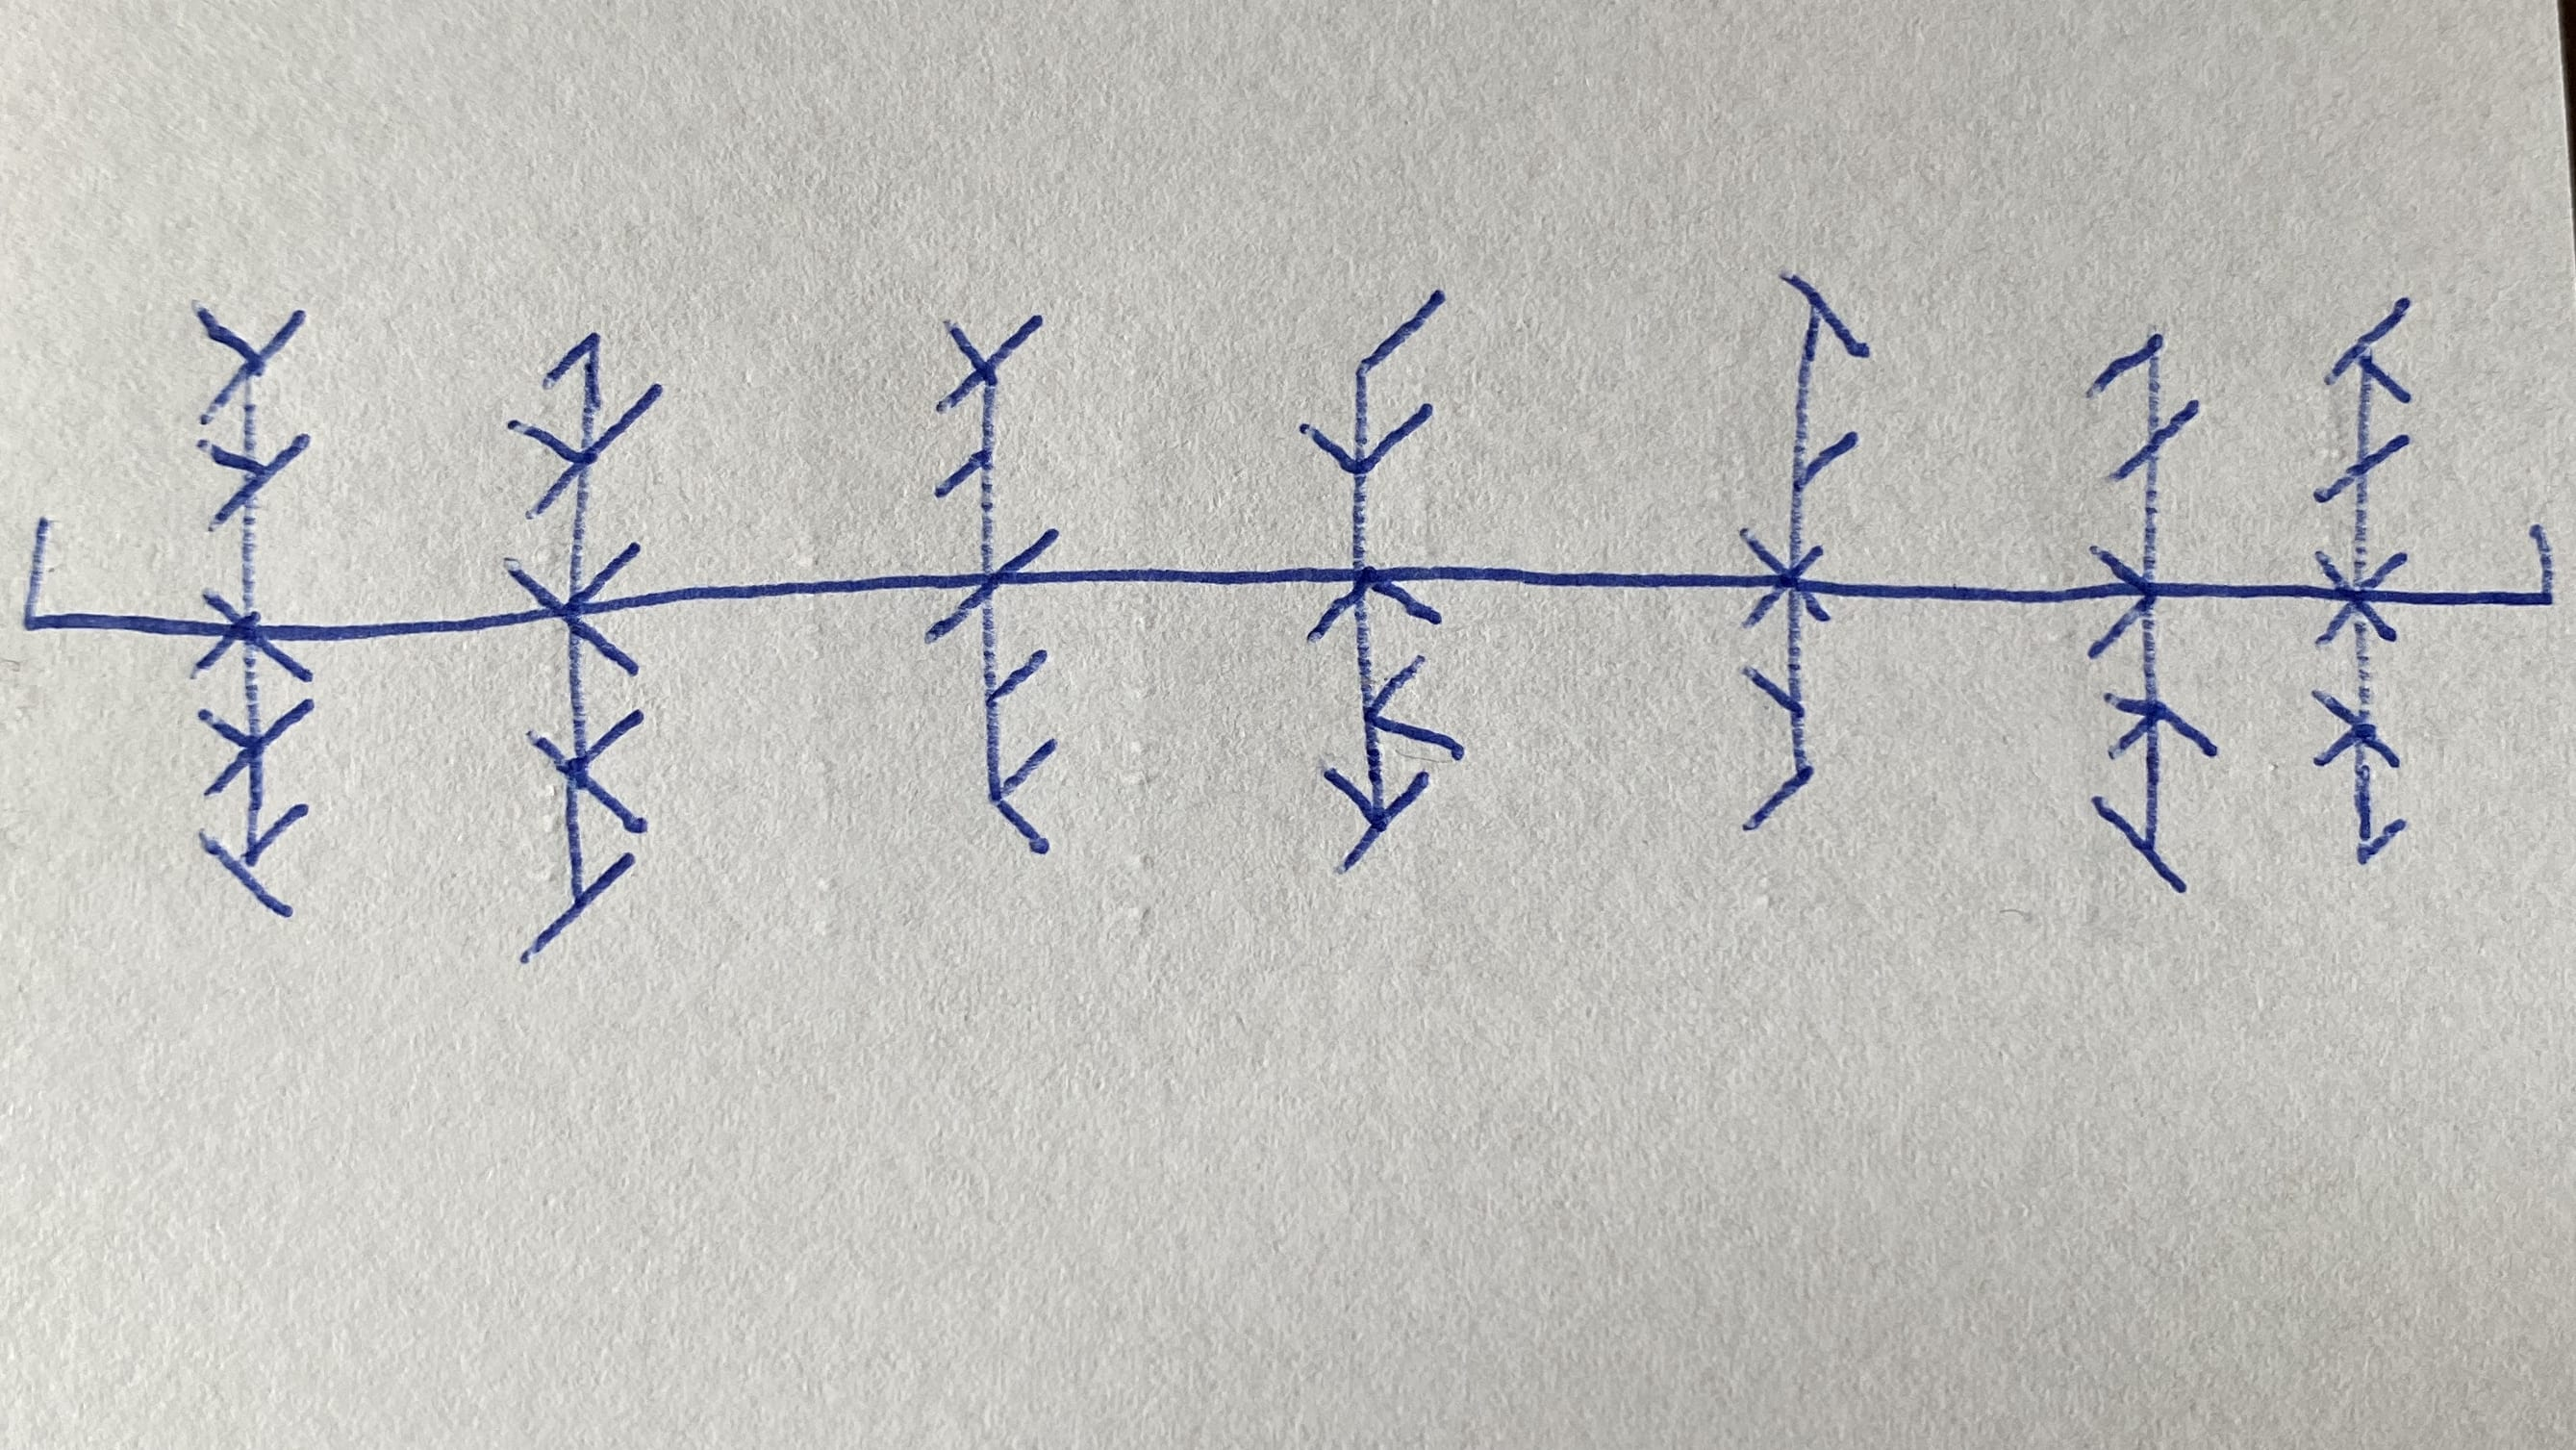Bar: (506, 333, 667, 963), (1297, 289, 1467, 871), (184, 301, 313, 919), (1737, 271, 1874, 834), (924, 315, 1062, 855), (2086, 335, 2219, 896), (2311, 296, 2413, 864)
Barcode: (23, 269, 2558, 965)
End: (2406, 522, 2557, 604)
Start: (23, 517, 200, 637)
